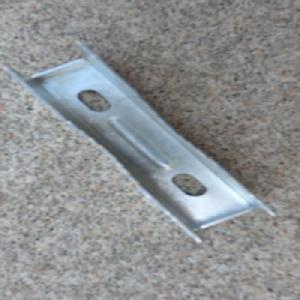ClampPart: (0, 35, 278, 245)
